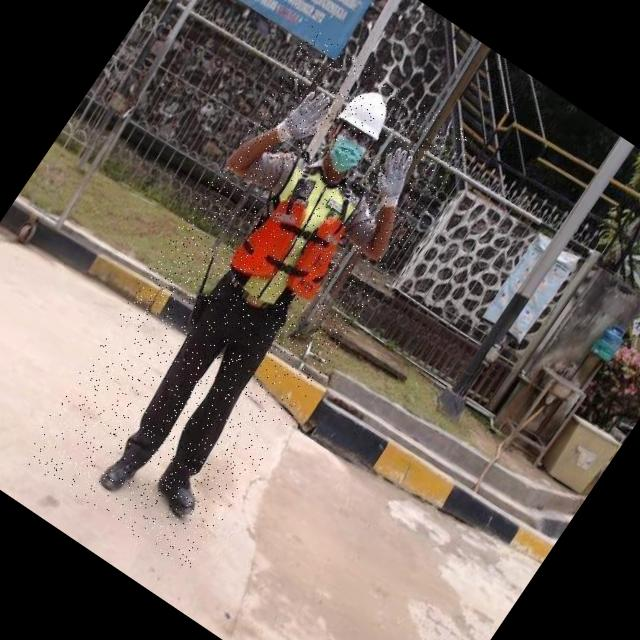hard_hat: (325, 72, 408, 156)
safety_vest: (214, 144, 382, 326)
vehicle: (20, 25, 480, 572)
work_boots: (140, 461, 214, 532), (89, 442, 150, 506)
